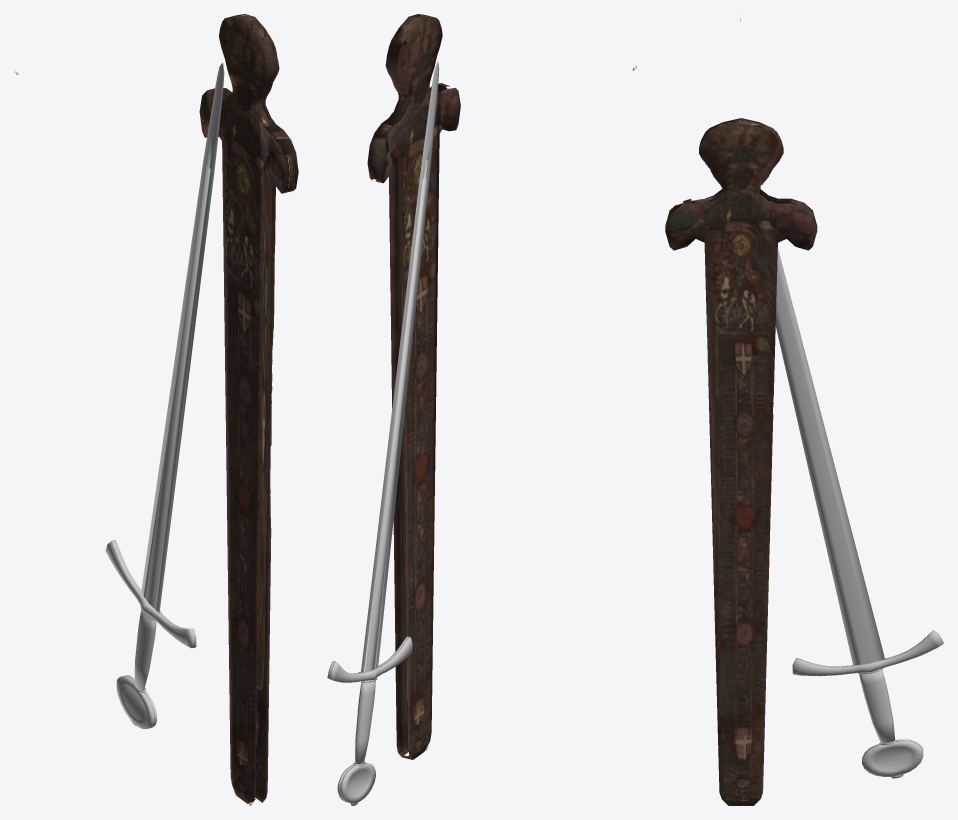
File: 21sword.obj
3 views of the same model, side by side, from view 1: azimuth 30°, elevation 25°; view 2: azimuth 150°, elevation 25°; view 3: azimuth 270°, elevation 25° (orthographic). The views are drawn at different scales.
Size of the model in its own units: 895 by 2789 by 1022.
